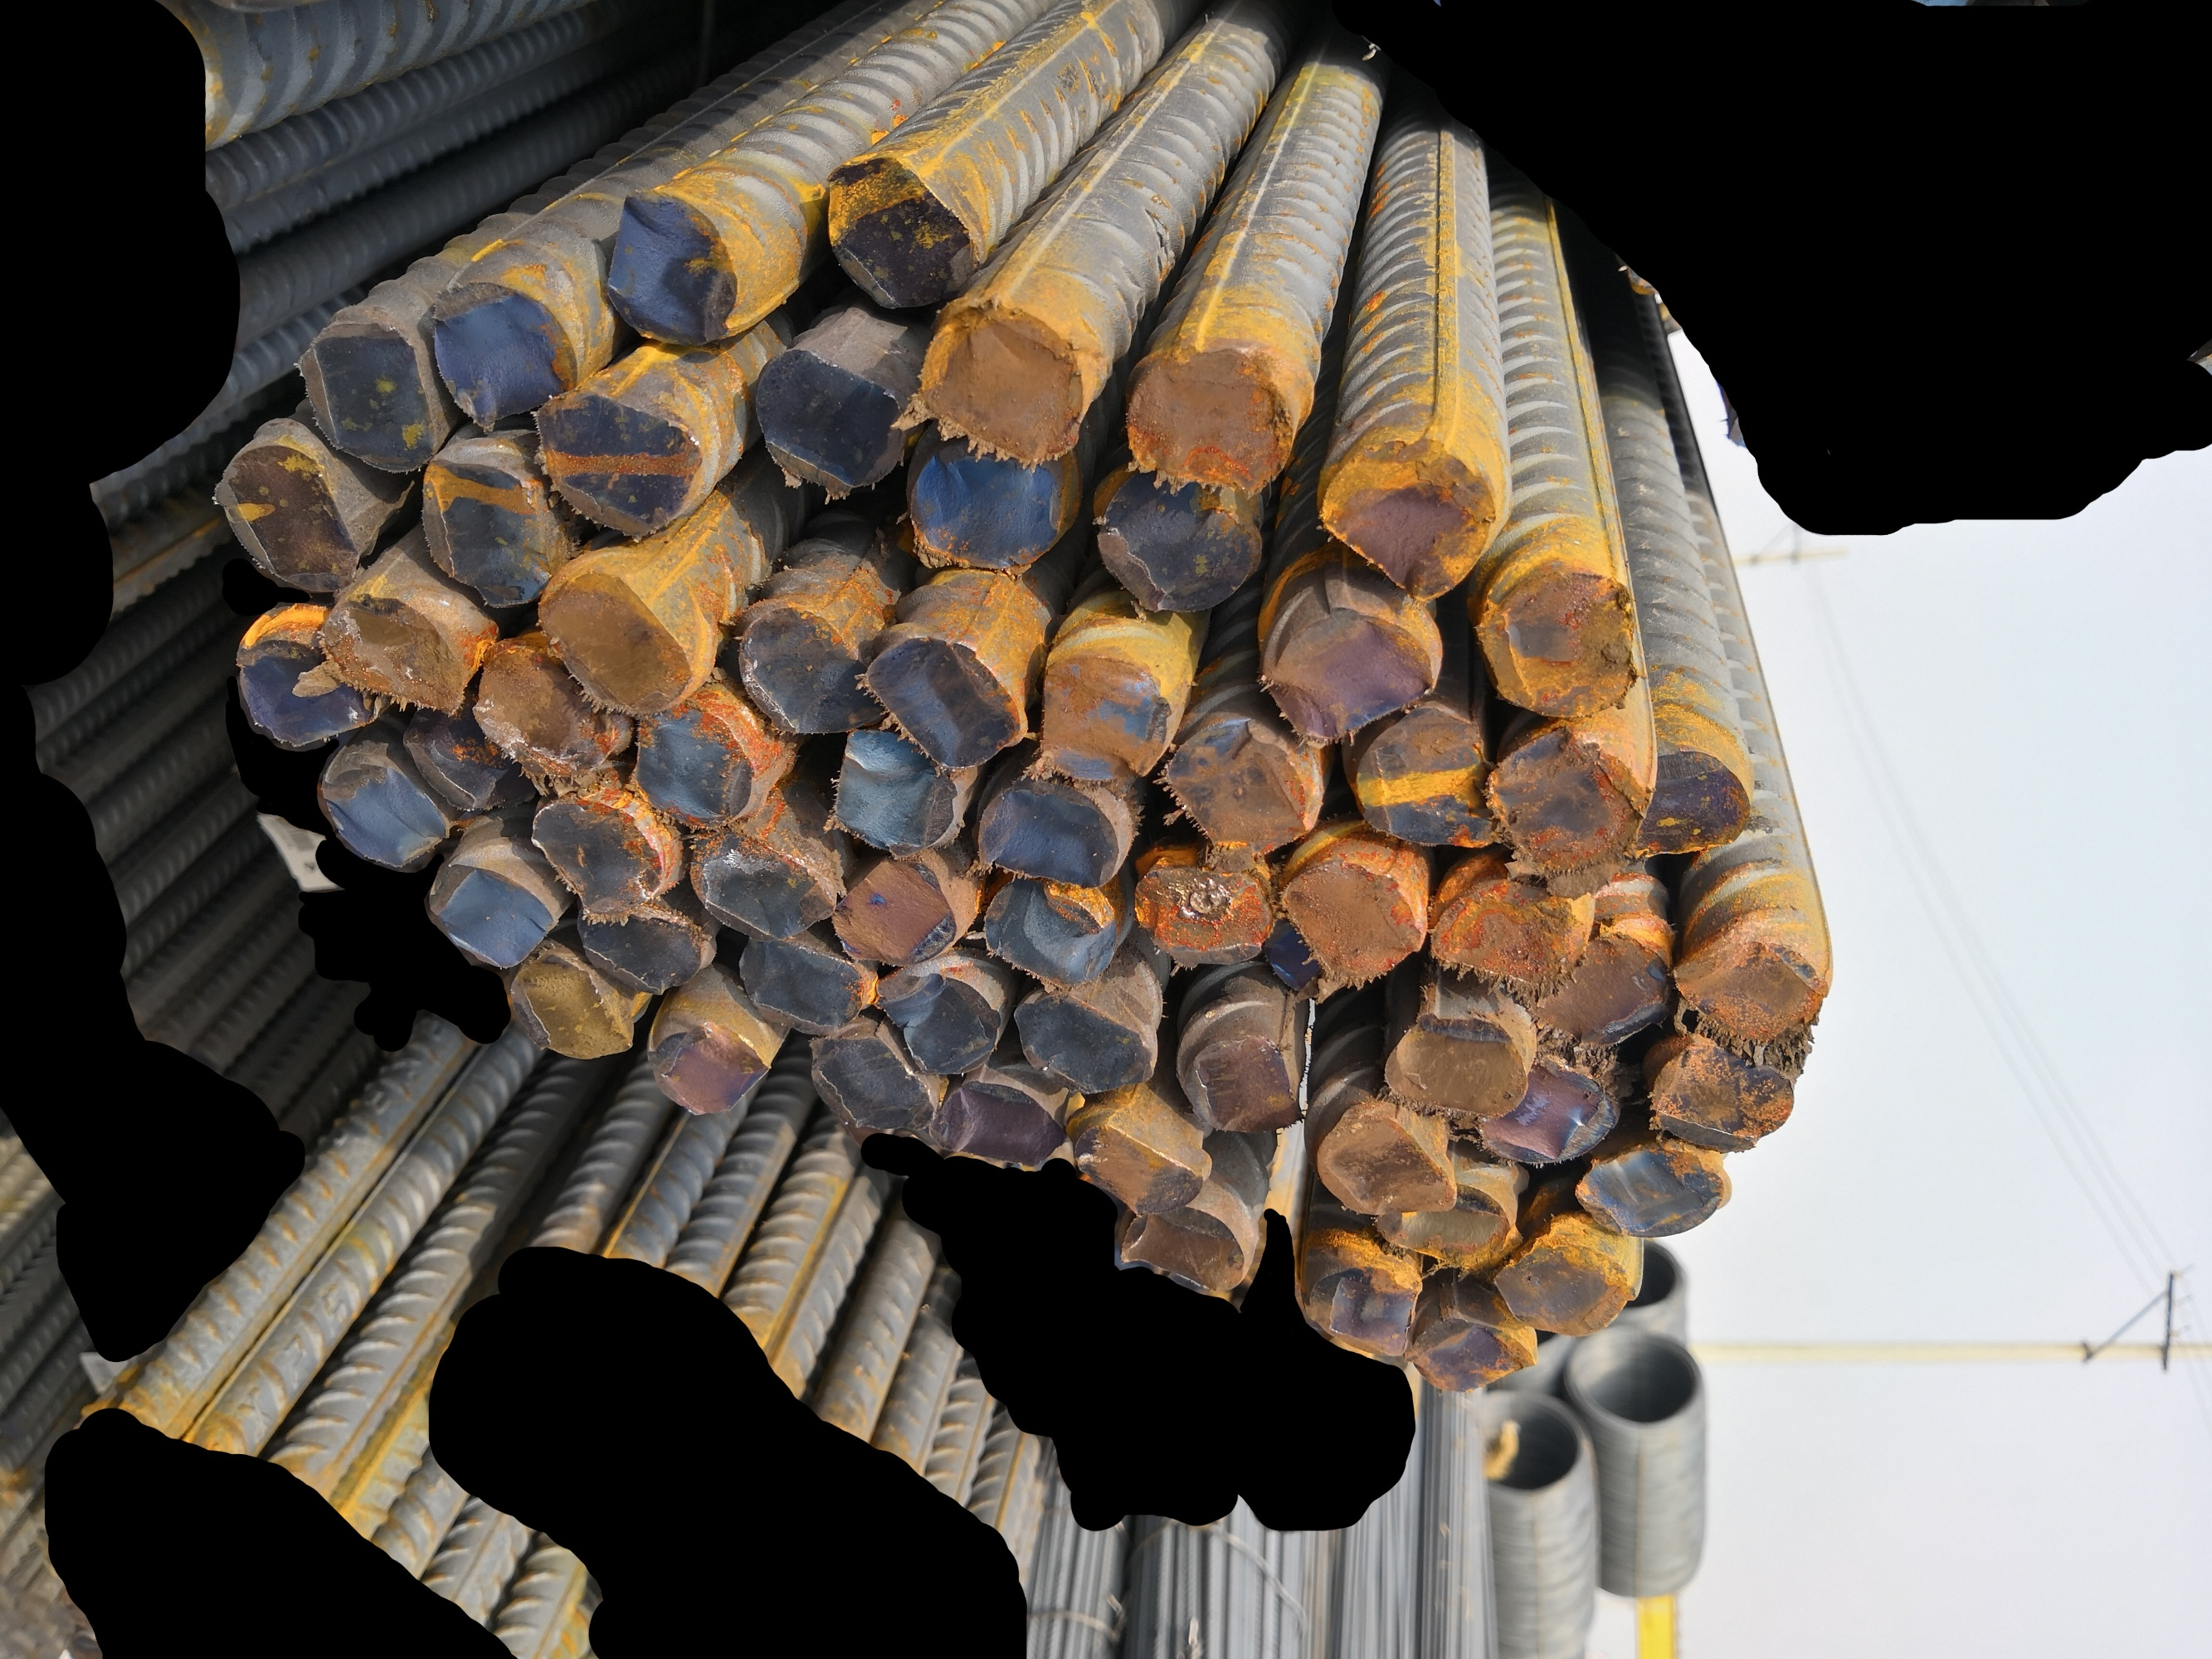rebar: (1313, 436, 1497, 601), (1469, 551, 1640, 723), (912, 300, 1084, 467), (533, 556, 701, 725), (525, 389, 708, 542), (1260, 596, 1443, 739), (816, 152, 980, 310), (1093, 467, 1267, 615), (1483, 721, 1644, 882), (854, 626, 1028, 772), (1119, 343, 1293, 490), (594, 186, 746, 350), (464, 629, 626, 781), (429, 275, 587, 429), (755, 340, 906, 500), (905, 434, 1072, 577), (1159, 718, 1328, 859), (1349, 695, 1503, 850), (211, 439, 363, 594), (413, 450, 556, 613), (288, 321, 439, 471), (729, 596, 889, 734), (1673, 920, 1832, 1053), (680, 812, 840, 941), (1374, 1002, 1536, 1127), (230, 615, 383, 748), (486, 934, 640, 1066), (307, 739, 455, 873), (1529, 927, 1682, 1056), (1429, 875, 1591, 997), (317, 591, 469, 720), (1279, 854, 1429, 983), (971, 770, 1124, 894), (828, 723, 966, 861), (521, 791, 669, 918), (1133, 847, 1279, 974), (631, 699, 763, 838), (390, 699, 544, 819), (1469, 1051, 1625, 1169), (1487, 1227, 1651, 1335), (821, 850, 964, 974), (1035, 650, 1171, 779), (1642, 1047, 1804, 1155), (422, 850, 561, 976), (1567, 1136, 1733, 1241), (1008, 983, 1157, 1096), (1313, 1105, 1461, 1215), (978, 878, 1121, 992), (1625, 748, 1755, 871), (734, 932, 880, 1039), (804, 1023, 934, 1141), (1069, 1108, 1211, 1216), (872, 962, 1002, 1079), (1180, 1019, 1304, 1141), (1401, 1300, 1544, 1405), (1112, 1192, 1252, 1297), (645, 1007, 777, 1117), (570, 899, 711, 1000), (1367, 1175, 1518, 1267), (931, 1068, 1069, 1169), (1302, 1253, 1422, 1364)
